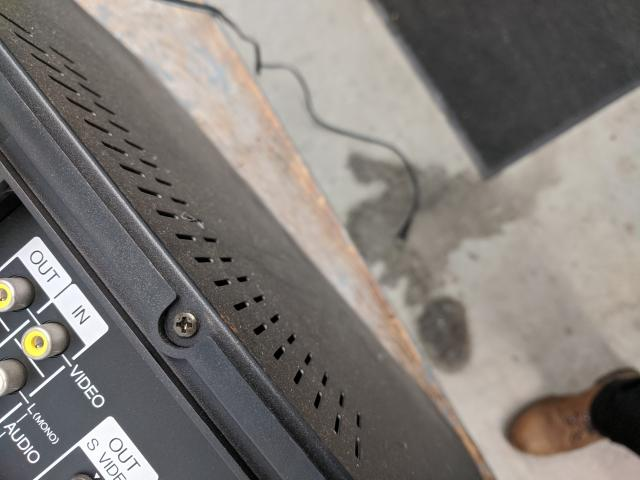CRS: (173, 312, 197, 338)
